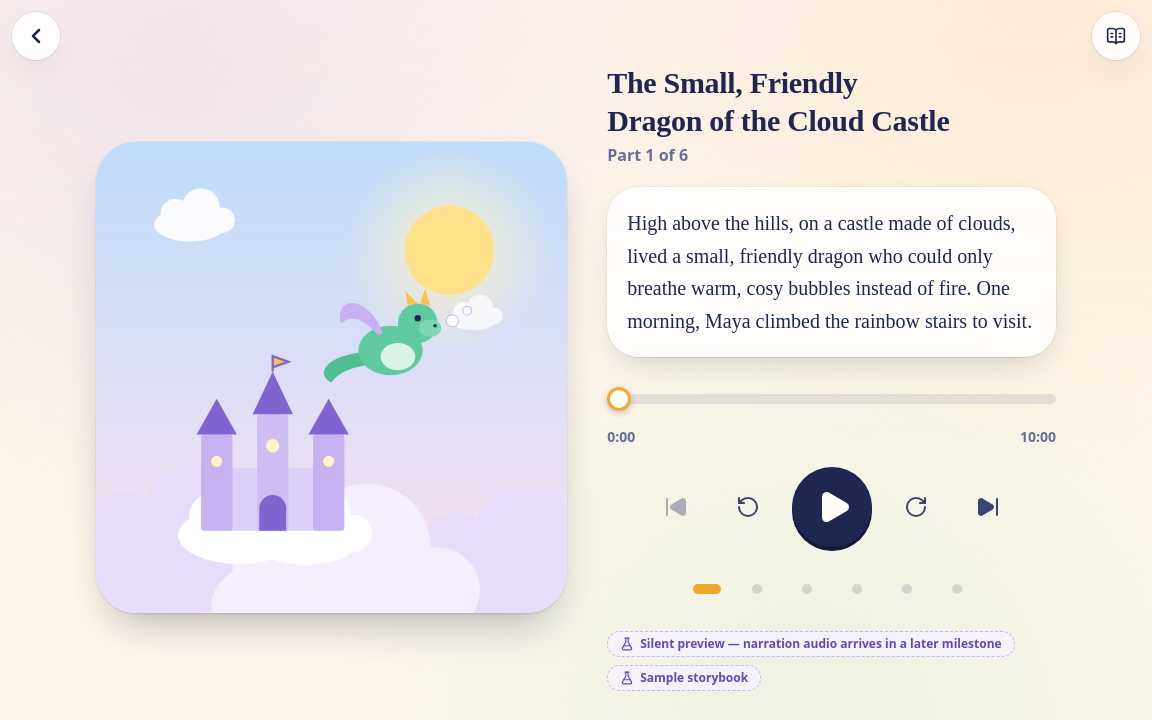
Player › plays, navigates parts and saves progress
The width and height of the screenshot is (1152, 720).
Expected: the text "Part 1 of 6" is shown, left=607, top=144, right=688, bottom=166
What coordinates should you click on to do the following:
click the button named "Next part"
I would click on:
 (988, 507)
Its box is left=960, top=479, right=1016, bottom=535.
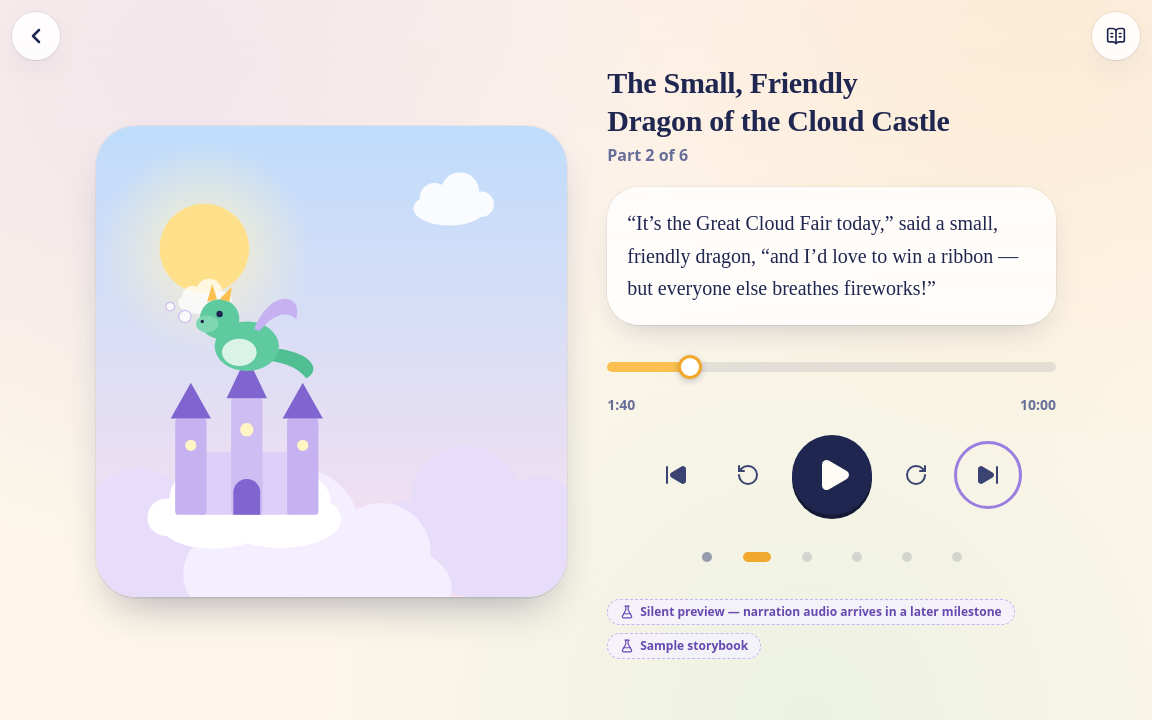
Now the text "Part 2 of 6" is shown, box left=607, top=144, right=688, bottom=166
What coordinates should you click on to do the following:
click the button named "Play"
I would click on:
 (832, 474)
Its box is left=792, top=434, right=872, bottom=514.
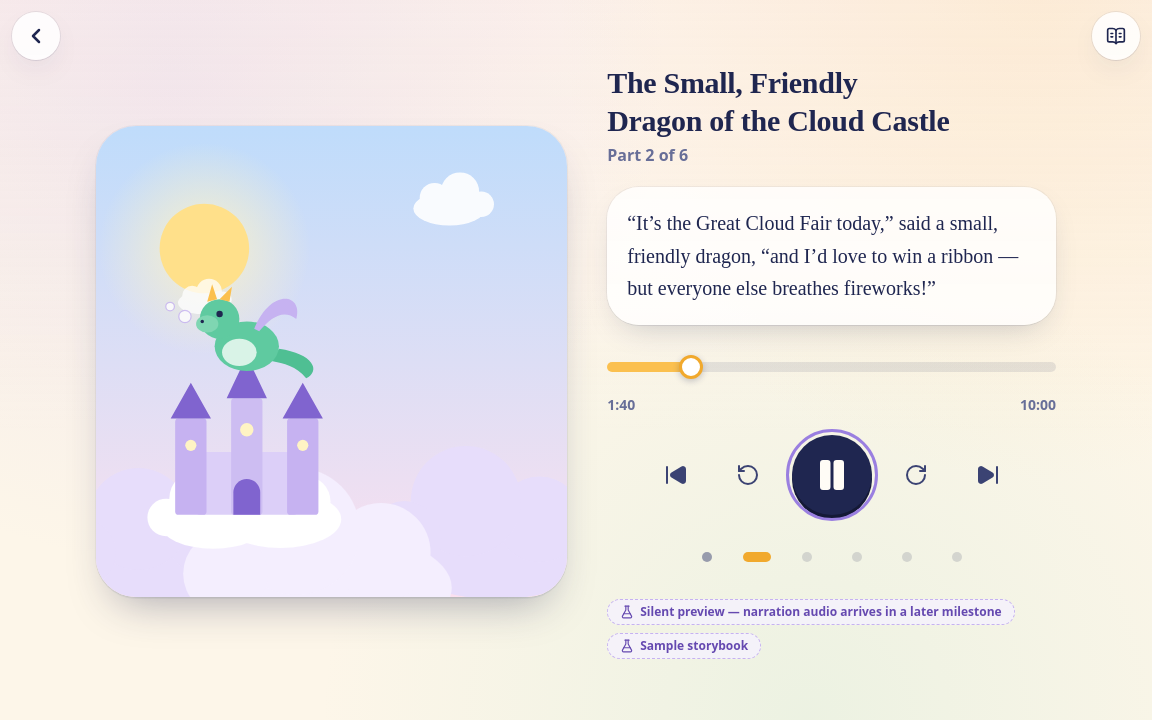
Now the button named "Pause" is shown, box left=792, top=434, right=872, bottom=514
